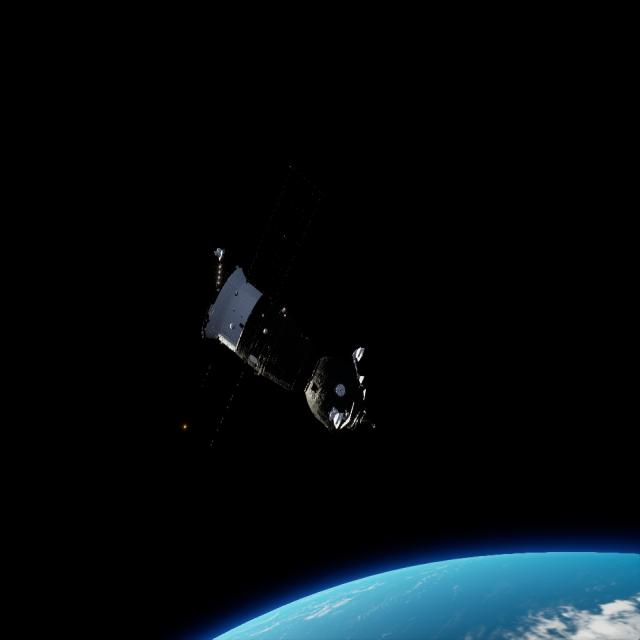Satellites revolving around earth: (199, 160, 378, 440)
